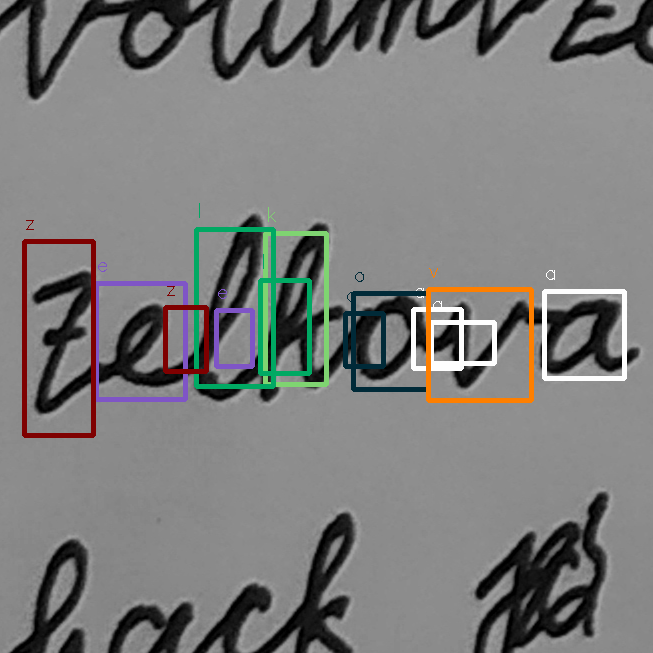a: (533, 293, 642, 379)
e: (107, 299, 180, 393)
k: (254, 219, 347, 404)
l: (185, 209, 270, 404)
o: (348, 288, 429, 384)
v: (440, 295, 529, 393)
z: (25, 264, 103, 415)
